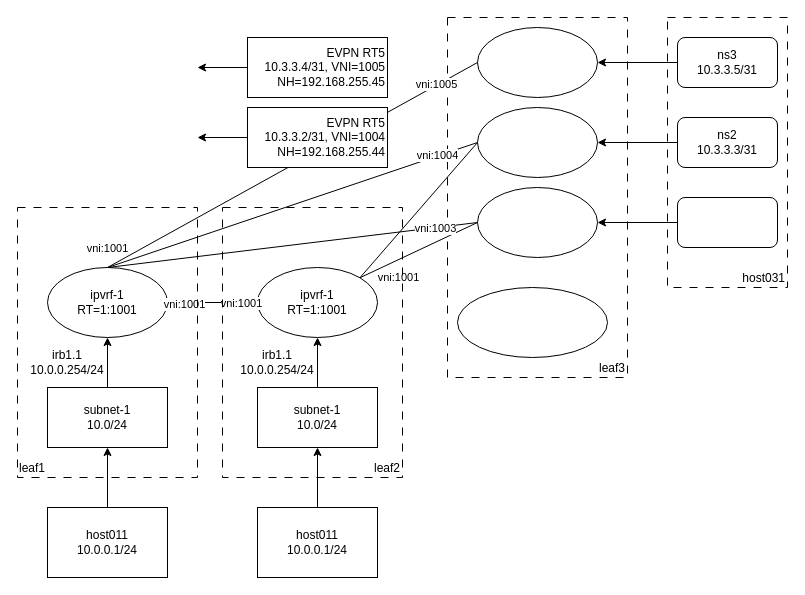
This 805x595 diagram has some shape labels left out. The shapes that lost their labels are listed below. From the top down, each one's box as (x1, y1, x2, y2) in pixels, then its label:
(476, 26, 598, 98): ipvrf-5 RT=1:1005
(476, 106, 598, 178): ipvrf-4 RT=1:1004
(476, 186, 598, 258): ipvrf-3 RT=1:1003
(676, 196, 778, 248): ns1 10.3.3.1/31
(456, 286, 608, 358): default lo0.999 (192.168.255.44, 192.168.255.45)
